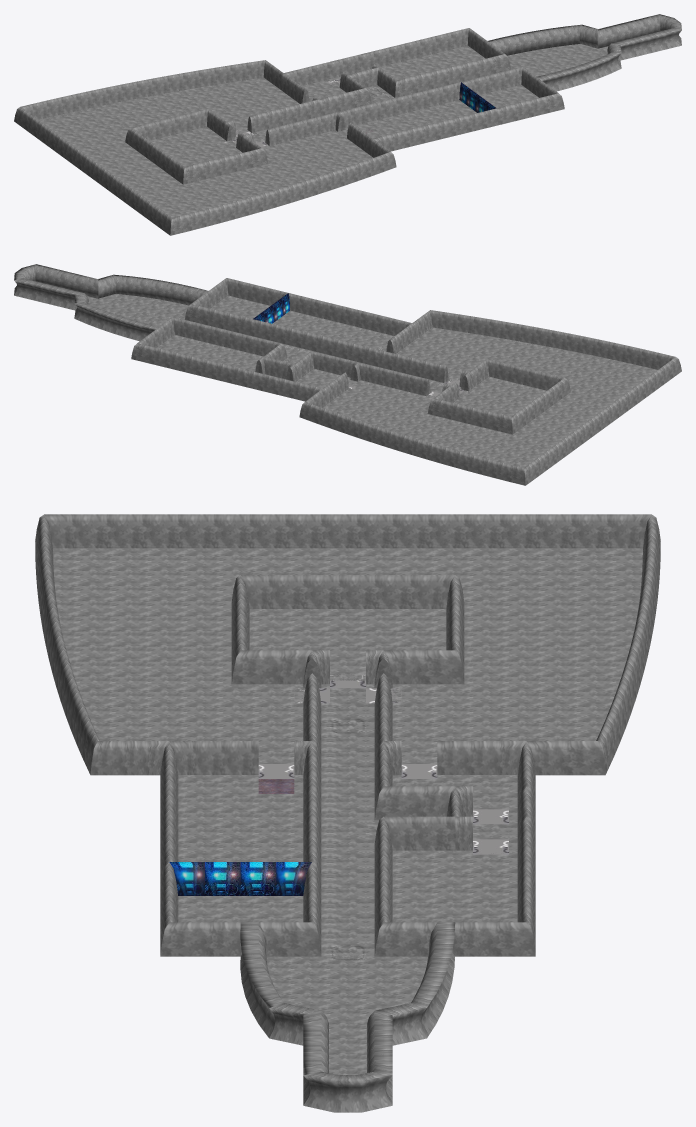
File: level_7.gltf
3 renders of one model, top to bottom at view 1: azimuth 30°, elevation 25°; view 2: azimuth 150°, elevation 25°; view 3: azimuth 270°, elevation 25°, orthographic. The views are drawn at different scales.
Visible parts, largest first — view 1: Mesh_3, Mesh_0, Mesh_33, Mesh_13, Mesh_35, Mesh_1, Mesh_17, Mesh_104, Mesh_98, Mesh_11, Mesh_5, Mesh_25 (+30 smaller); view 2: Mesh_0, Mesh_13, Mesh_33, Mesh_3, Mesh_35, Mesh_1, Mesh_4, Mesh_104, Mesh_17, Mesh_25, Mesh_11, Mesh_5 (+30 smaller); view 3: Mesh_0, Mesh_3, Mesh_35, Mesh_122, Mesh_11, Mesh_7, Mesh_5, Mesh_1, Mesh_10, Mesh_53, Mesh_4, Mesh_2 (+41 smaller).
Part boxes in pixels (bbox=[...]): Mesh_3: bbox=[40, 80, 259, 140]; Mesh_0: bbox=[176, 154, 369, 216]; Mesh_33: bbox=[20, 60, 265, 119]; Mesh_13: bbox=[170, 151, 396, 235]; Mesh_35: bbox=[14, 107, 171, 235]; Mesh_1: bbox=[102, 147, 183, 217]; Mesh_17: bbox=[373, 108, 498, 151]; Mesh_104: bbox=[337, 82, 460, 127]; Mesh_98: bbox=[395, 54, 510, 97]; Mesh_11: bbox=[507, 44, 607, 76]; Mesh_5: bbox=[151, 129, 238, 166]; Mesh_25: bbox=[361, 28, 469, 70]; Mesh_0: bbox=[419, 330, 655, 390]; Mesh_13: bbox=[430, 310, 675, 369]; Mesh_33: bbox=[299, 401, 525, 485]; Mesh_3: bbox=[345, 413, 519, 466]; Mesh_35: bbox=[524, 357, 681, 485]; Mesh_1: bbox=[522, 377, 647, 431]; Mesh_4: bbox=[326, 381, 434, 415]; Mesh_104: bbox=[250, 319, 376, 365]; Mesh_17: bbox=[288, 293, 411, 335]; Mesh_25: bbox=[131, 343, 245, 386]; Mesh_11: bbox=[88, 294, 188, 326]; Mesh_5: bbox=[457, 379, 544, 416]; Mesh_0: bbox=[62, 552, 234, 740]; Mesh_3: bbox=[467, 552, 633, 740]; Mesh_35: bbox=[44, 514, 651, 548]; Mesh_122: bbox=[330, 688, 508, 945]; Mesh_11: bbox=[266, 952, 427, 1043]; Mesh_7: bbox=[187, 779, 294, 861]; Mesh_5: bbox=[258, 612, 437, 680]; Mesh_1: bbox=[69, 552, 409, 599]; Mesh_10: bbox=[401, 847, 508, 922]; Mesh_53: bbox=[241, 575, 454, 608]; Mesh_4: bbox=[390, 688, 549, 763]; Mesh_2: bbox=[377, 552, 626, 599].
Size of the model in its own units: 61.49 by 1.55 by 28.45.
8 materials, 8 textured.
